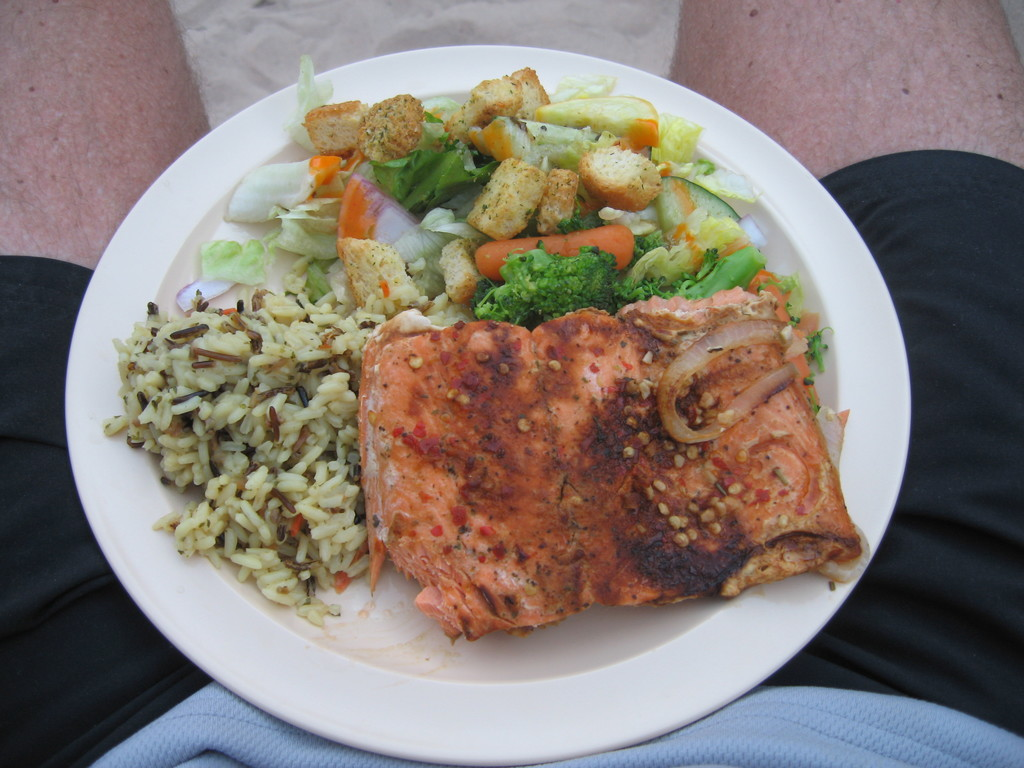salad: (172, 44, 780, 335)
